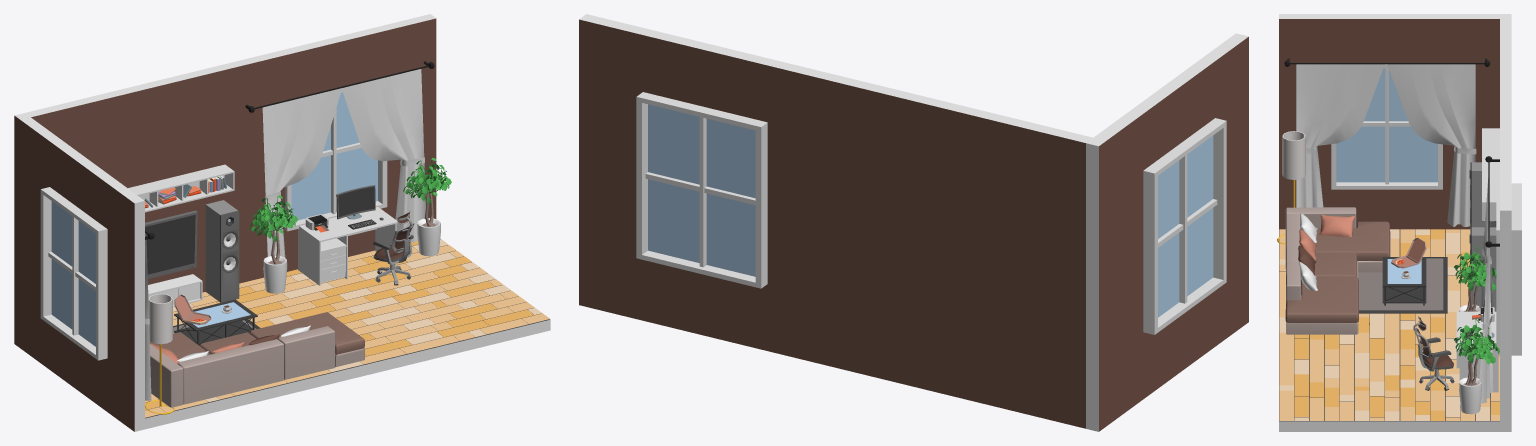
File: room_8.glb
3 renders of one model, left to right at view 1: azimuth 30°, elevation 25°; view 2: azimuth 150°, elevation 25°; view 3: azimuth 270°, elevation 25°, orthographic. The views are drawn at different scales.
Visible parts, largest first — view 1: Walls_009.009, floor_015.002, sofa_028.002, tv_wall_019.003, window_003.001, Walls_009.011, Walls_009.007, Walls_011.011, Curtains_013.001, Curtains_013.002, window_003.002, office_table_040.001 (+16 smaller); view 2: Walls_009.009, window_003.002, Walls_009.006, Walls_009.007, window_003.001, Walls_009.011, Walls_009.010, Walls_009.008, Walls_009.013, Walls_009.012; view 3: floor_015.002, sofa_028.002, window_003.001, Curtains_013.003, Curtains_013.004, Walls_009.007, Walls_009.013, Walls_009.011, floor_015.001, Walls_011.011, Walls_009.012, tv_wall_019.003 (+22 smaller).
Boxes of the visible parts, x1,y1,x2,y2 form: Walls_009.009: [25, 51, 285, 292]; floor_015.002: [239, 238, 549, 368]; sofa_028.002: [149, 312, 364, 407]; tv_wall_019.003: [128, 164, 239, 307]; window_003.001: [40, 187, 107, 360]; Walls_009.011: [107, 181, 144, 431]; Walls_009.007: [14, 113, 60, 369]; Walls_011.011: [145, 244, 550, 429]; Curtains_013.001: [341, 69, 425, 242]; Curtains_013.002: [262, 88, 341, 257]; window_003.002: [285, 90, 387, 231]; office_table_040.001: [298, 185, 398, 285]; Walls_009.009: [767, 60, 1092, 428]; window_003.002: [636, 92, 767, 288]; Walls_009.006: [579, 14, 650, 320]; Walls_009.007: [1086, 110, 1143, 431]; window_003.001: [1143, 118, 1226, 334]; Walls_009.011: [1203, 33, 1248, 346]; Walls_009.010: [644, 30, 774, 121]; Walls_009.008: [644, 260, 767, 350]; Walls_009.013: [1131, 58, 1215, 169]; Walls_009.012: [1144, 291, 1215, 398]; floor_015.002: [1279, 325, 1499, 420]; sofa_028.002: [1285, 207, 1390, 334]; window_003.001: [1331, 64, 1442, 189]; Curtains_013.003: [1387, 64, 1476, 226]; Curtains_013.004: [1296, 64, 1384, 207]; Walls_009.007: [1442, 14, 1511, 229]; Walls_009.013: [1331, 14, 1441, 62]; Walls_009.011: [1279, 14, 1331, 229]; floor_015.001: [1279, 229, 1470, 324]; Walls_011.011: [1279, 229, 1499, 431]; Walls_009.012: [1331, 189, 1441, 229]; tv_wall_019.003: [1469, 128, 1499, 311].
Size of the model in its own units: 8.18 by 4.2 by 4.21.
Materials: 1 (1 with a texture image).
